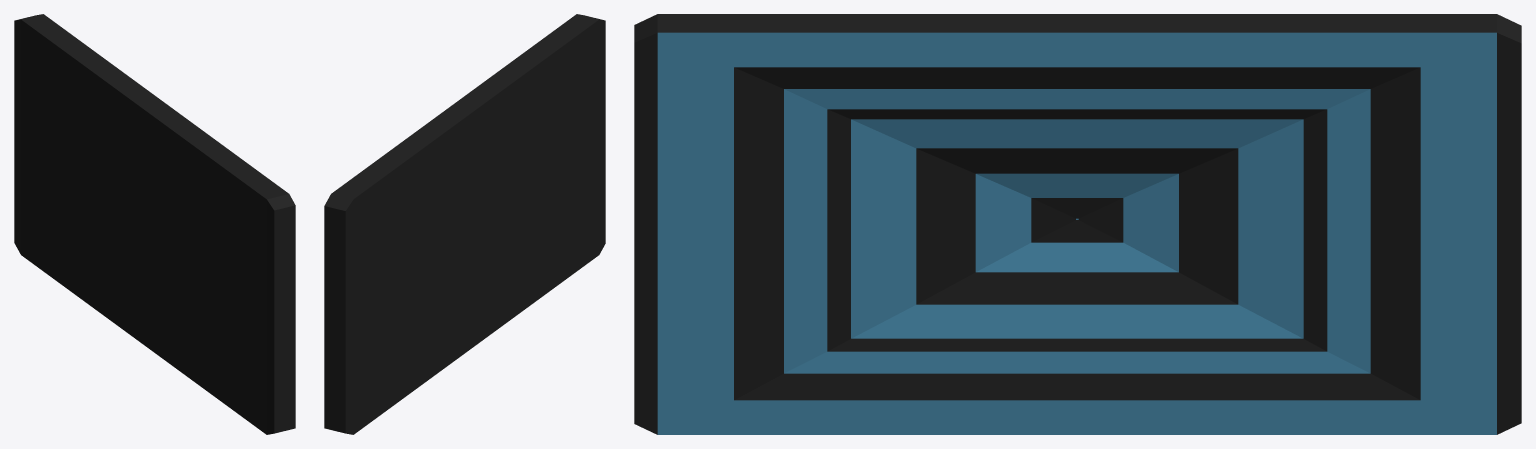
Rendered from Pared final.fbx.
3 views of the same model, side by side, from view 1: azimuth 30°, elevation 25°; view 2: azimuth 150°, elevation 25°; view 3: azimuth 270°, elevation 25° (orthographic). The views are drawn at different scales.
Parts seen in each view (by area): view 1: Pared Final; view 2: Pared Final; view 3: Pared Final.
Part boxes in pixels (x1,y1,x2,y2): Pared Final: (14,14,295,434); Pared Final: (324,14,605,434); Pared Final: (634,14,1521,434).
Size of the model in its own units: 50 by 500 by 1000.
Materials: 1 (1 with a texture image).
